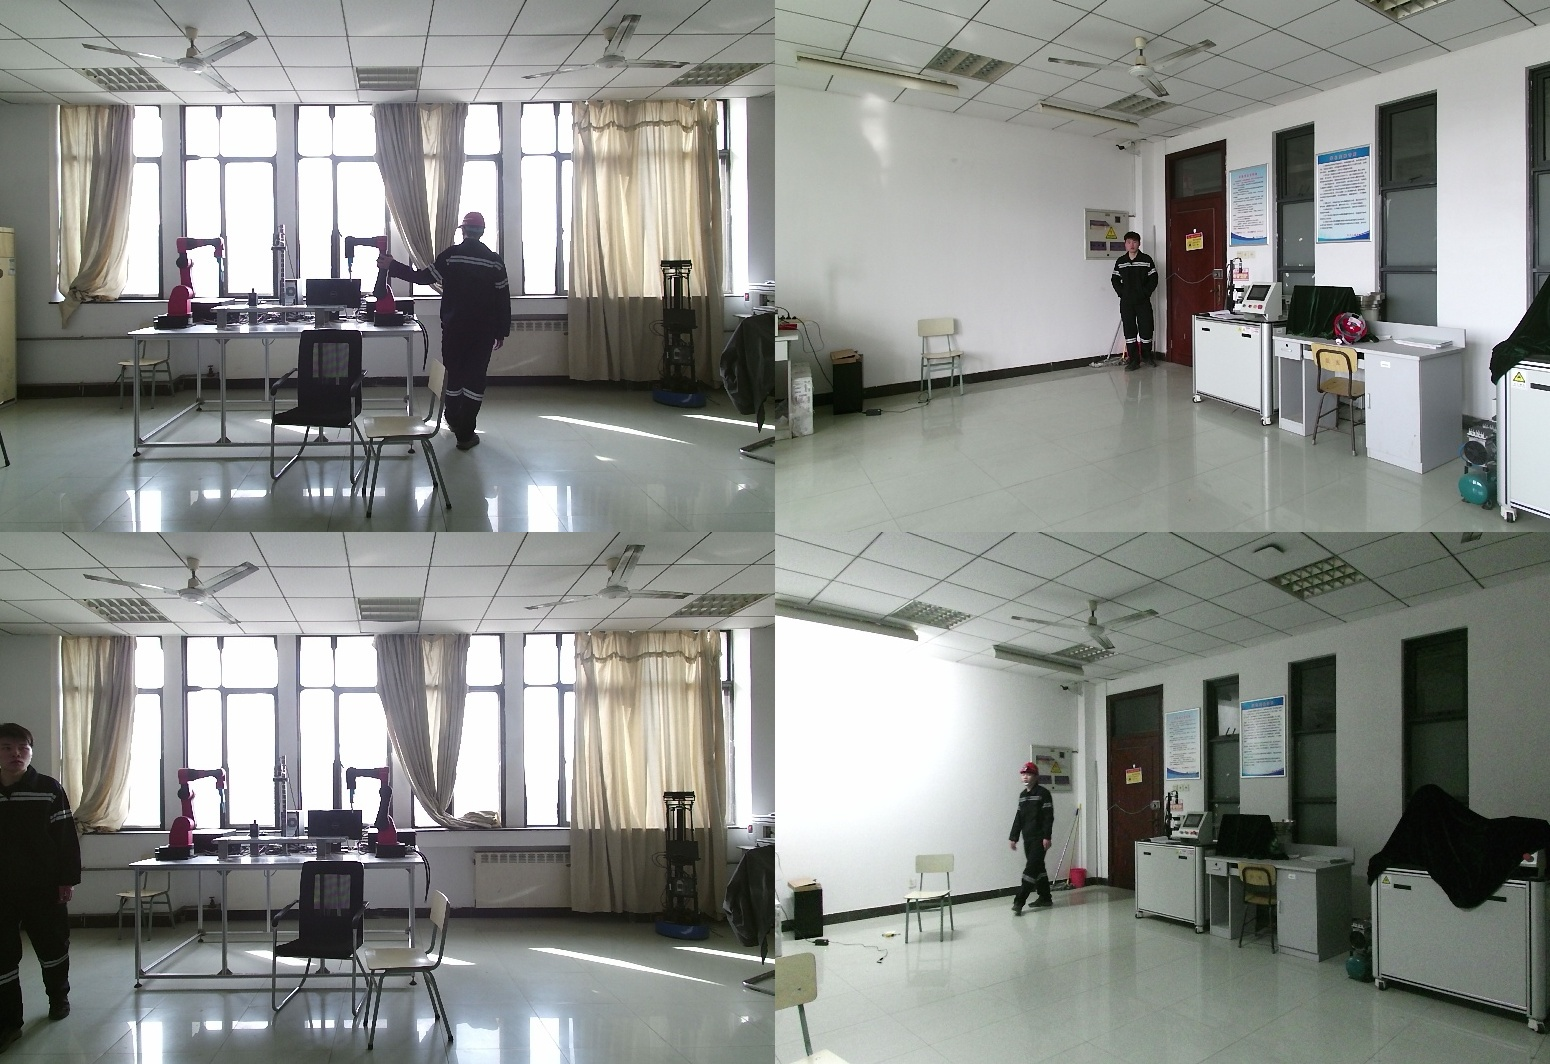person: (379, 213, 521, 452), (3, 723, 88, 1048), (1005, 763, 1061, 915), (1111, 232, 1163, 374)
